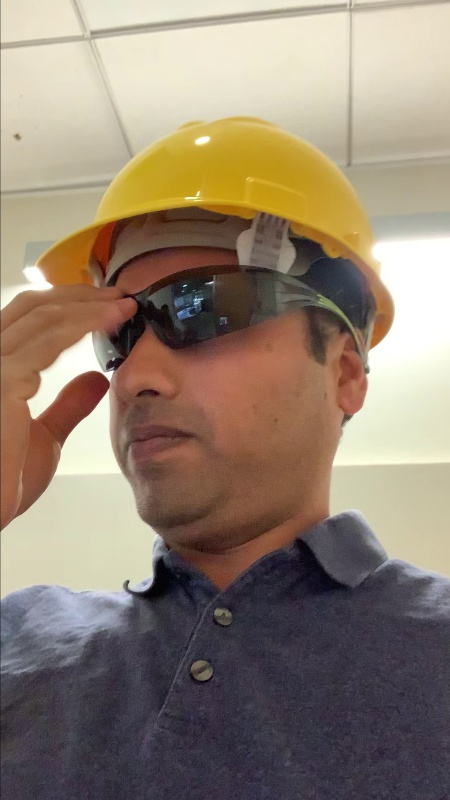glasses: (66, 261, 374, 362)
helmet: (19, 114, 416, 265)
